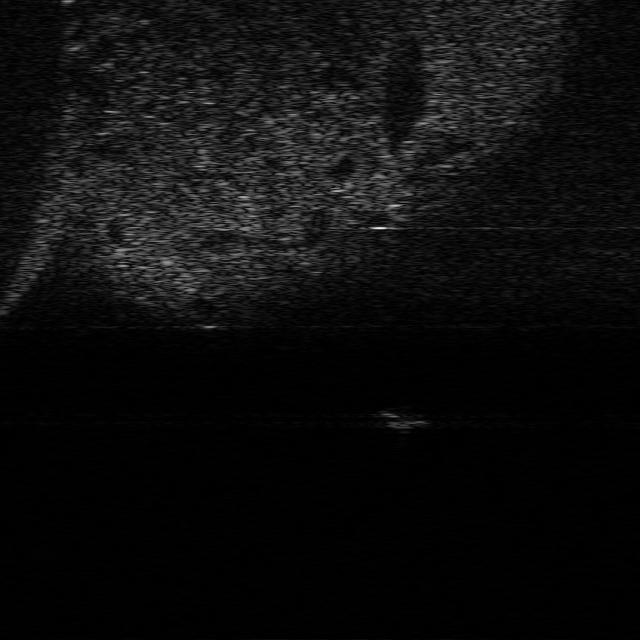cube: (378, 409, 433, 430)
